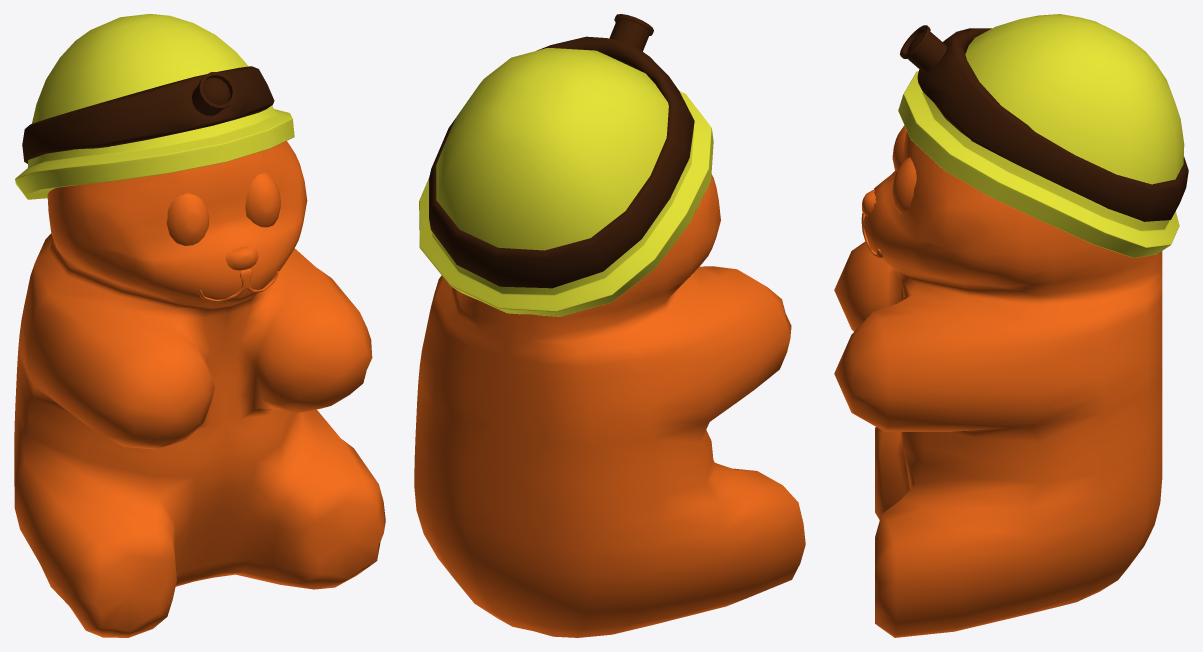
File: gumbear.fbx
3 renders of one model, left to right at view 1: azimuth 30°, elevation 25°; view 2: azimuth 150°, elevation 25°; view 3: azimuth 270°, elevation 25°, orthographic. The views are drawn at different scales.
Visible parts, largest first — view 1: Pedo_Bear_LP1; view 2: Pedo_Bear_LP1; view 3: Pedo_Bear_LP1.
Boxes of the visible parts, bbox=[...] form: Pedo_Bear_LP1: bbox=[14, 14, 385, 637]; Pedo_Bear_LP1: bbox=[414, 14, 805, 637]; Pedo_Bear_LP1: bbox=[834, 14, 1188, 637].
Size of the model in its own units: 124 by 198 by 115.
